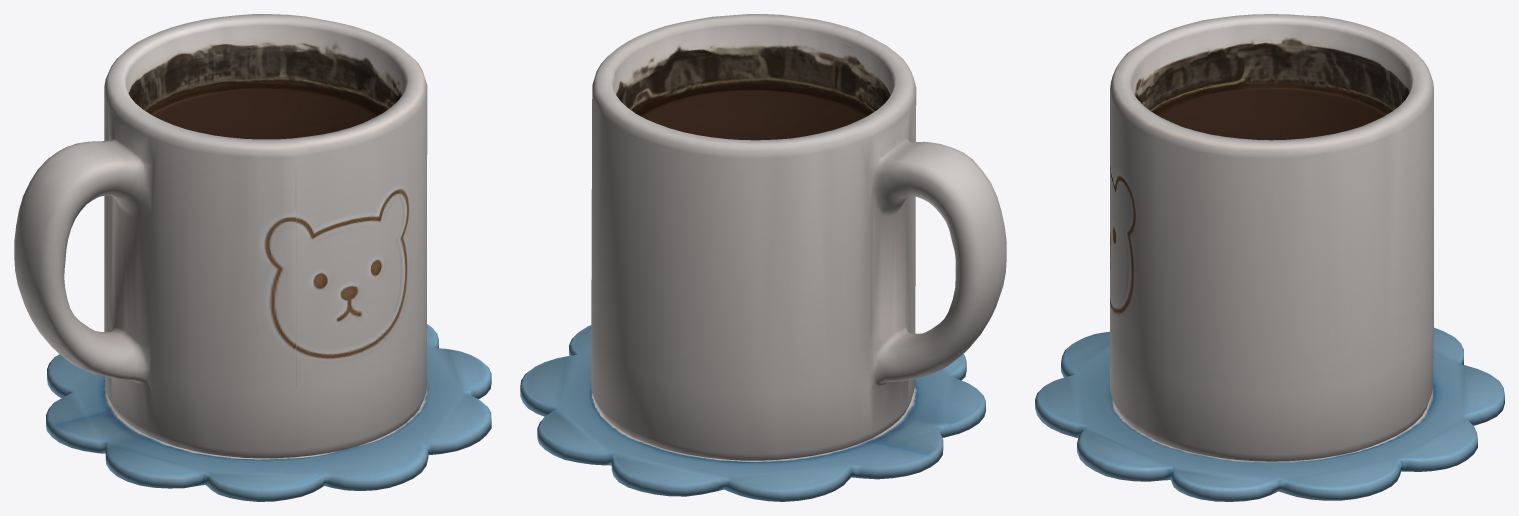
The model's file is small_mug.glb.
3 renders of one model, left to right at view 1: azimuth 30°, elevation 25°; view 2: azimuth 150°, elevation 25°; view 3: azimuth 270°, elevation 25°, orthographic.
Parts seen in each view (by area): view 1: tripo_node_cd28068e-2f94-4b40-bce0-f73abd4e03d3; view 2: tripo_node_cd28068e-2f94-4b40-bce0-f73abd4e03d3; view 3: tripo_node_cd28068e-2f94-4b40-bce0-f73abd4e03d3.
Boxes of the visible parts, x1,y1,x2,y2 form: tripo_node_cd28068e-2f94-4b40-bce0-f73abd4e03d3: (14,14,491,501); tripo_node_cd28068e-2f94-4b40-bce0-f73abd4e03d3: (520,14,1006,501); tripo_node_cd28068e-2f94-4b40-bce0-f73abd4e03d3: (1035,14,1504,501).
Size of the model in its own units: 0.085 by 0.0599 by 0.0782.
1 material, 1 textured.
